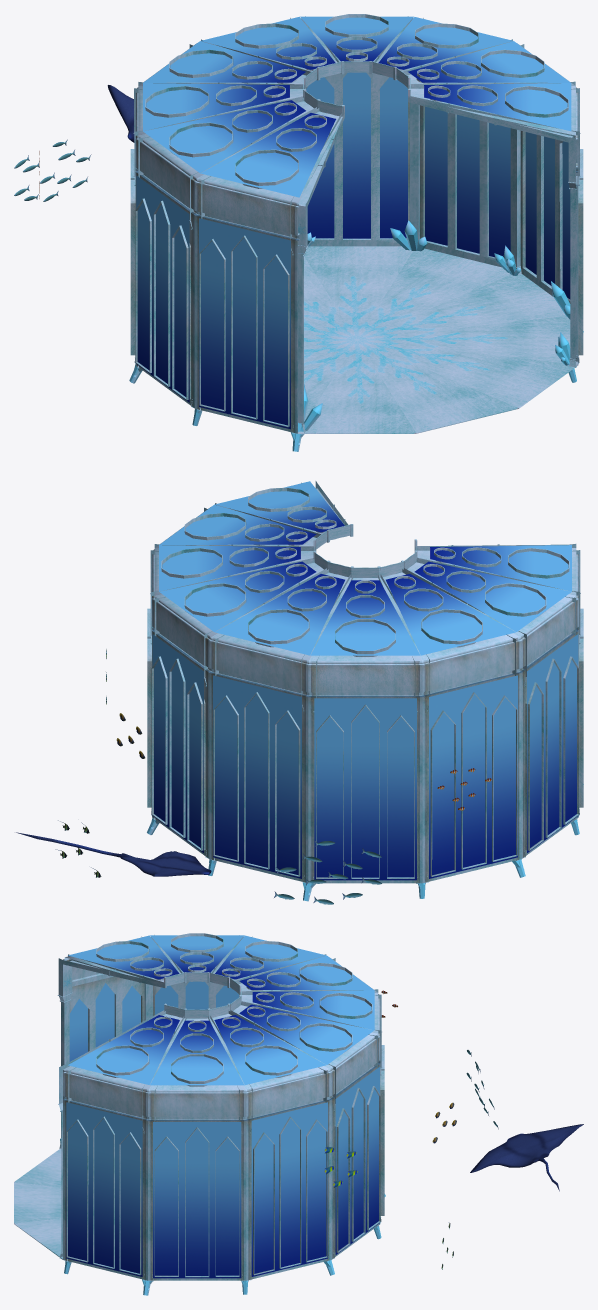
The model's file is 351_bg_triainaA.fbx.
3 renders of one model, top to bottom at view 1: azimuth 30°, elevation 25°; view 2: azimuth 150°, elevation 25°; view 3: azimuth 270°, elevation 25°, orthographic. The views are drawn at different scales.
Visible parts, largest first — view 1: stage, pPlane5, pPlane12, pPlane11, pPlane4, pPlane17, pPlane10, pPlane16, pPlane21, pPlane15, pCube8, pPlane14 (+9 smaller); view 2: stage, pPlane2, pPlane1, pPlane3, pPlane12, pPlane4, pPlane14, pPlane15, pPlane13, pPlane24, pPlane16, pPlane17 (+6 smaller); view 3: stage, pPlane10, pPlane9, pPlane11, pPlane12, pPlane22, pPlane23, pPlane21, pPlane24, pPlane5, pPlane13, polySurface35 (+7 smaller).
Boxes of the visible parts, left/top/right/bottom form: stage: left=130, top=14, right=583, bottom=433; pPlane5: left=199, top=218, right=290, bottom=429; pPlane12: left=306, top=72, right=407, bottom=238; pPlane11: left=425, top=106, right=510, bottom=257; pPlane4: left=136, top=175, right=189, bottom=402; pPlane17: left=200, top=113, right=335, bottom=197; pPlane10: left=525, top=132, right=570, bottom=299; pPlane16: left=143, top=100, right=305, bottom=173; pPlane21: left=424, top=83, right=571, bottom=131; pPlane15: left=143, top=83, right=289, bottom=131; pCube8: left=408, top=88, right=580, bottom=367; pPlane14: left=143, top=41, right=305, bottom=82; stage: left=147, top=487, right=583, bottom=883; pPlane2: left=314, top=698, right=416, bottom=880; pPlane1: left=213, top=675, right=301, bottom=878; pPlane3: left=429, top=675, right=517, bottom=878; pPlane12: left=152, top=634, right=203, bottom=852; pPlane4: left=527, top=634, right=578, bottom=852; pPlane14: left=310, top=580, right=420, bottom=655; pPlane15: left=386, top=574, right=515, bottom=655; pPlane13: left=215, top=574, right=344, bottom=655; pPlane24: left=159, top=561, right=316, bottom=631; pPlane16: left=414, top=561, right=571, bottom=631; pPlane17: left=430, top=545, right=571, bottom=591; stage: left=14, top=933, right=384, bottom=1280; pPlane10: left=153, top=1122, right=241, bottom=1278; pPlane9: left=66, top=1102, right=142, bottom=1276; pPlane11: left=251, top=1102, right=327, bottom=1276; pPlane12: left=335, top=1067, right=379, bottom=1254; pPlane22: left=150, top=1020, right=244, bottom=1085; pPlane23: left=214, top=1015, right=326, bottom=1084; pPlane21: left=68, top=1015, right=179, bottom=1084; pPlane24: left=239, top=1004, right=373, bottom=1064; pPlane5: left=69, top=983, right=140, bottom=1061; pPlane13: left=252, top=990, right=374, bottom=1030; polySurface35: left=470, top=1124, right=583, bottom=1191.
Bounding box in the file's own units: 3991 × 2495 × 5657.
